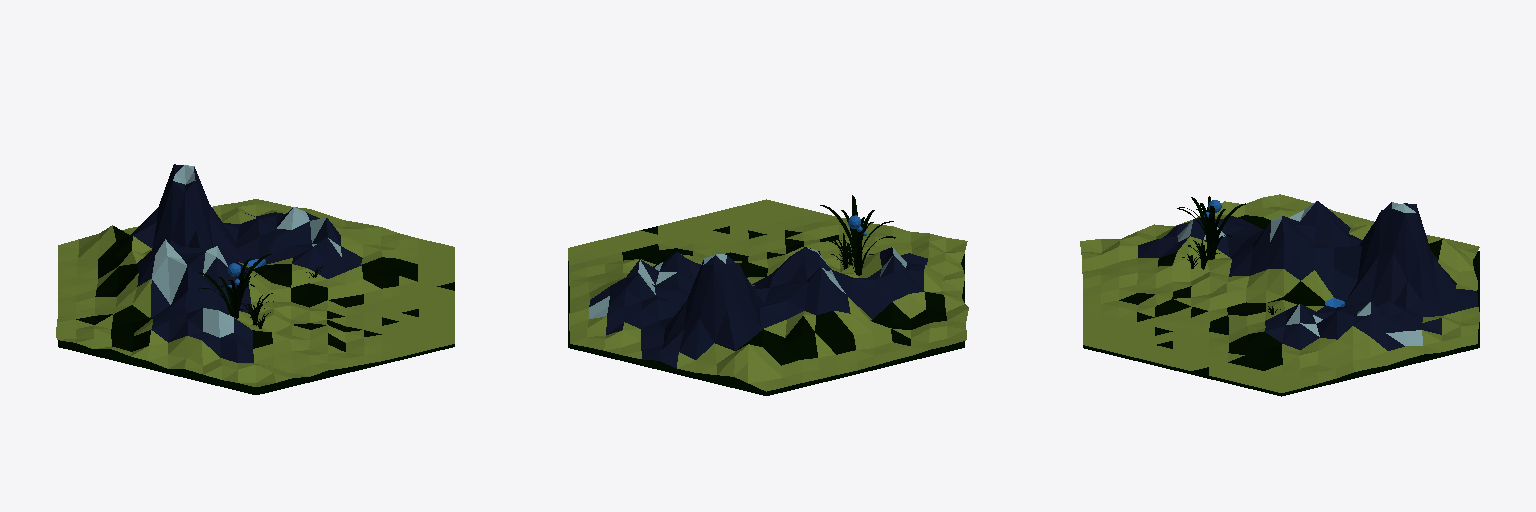
File: mountain1.obj
3 views of the same model, side by side, from view 1: azimuth 30°, elevation 25°; view 2: azimuth 150°, elevation 25°; view 3: azimuth 270°, elevation 25° (orthographic).
Visible parts, largest first — view 1: Circle; view 2: Circle; view 3: Circle.
Boxes of the visible parts, x1=… form: Circle: x1=56, y1=164, x2=454, y2=394; Circle: x1=568, y1=195, x2=968, y2=395; Circle: x1=1080, y1=194, x2=1479, y2=396.
Size of the model in its own units: 2.01 by 0.4656 by 1.75.